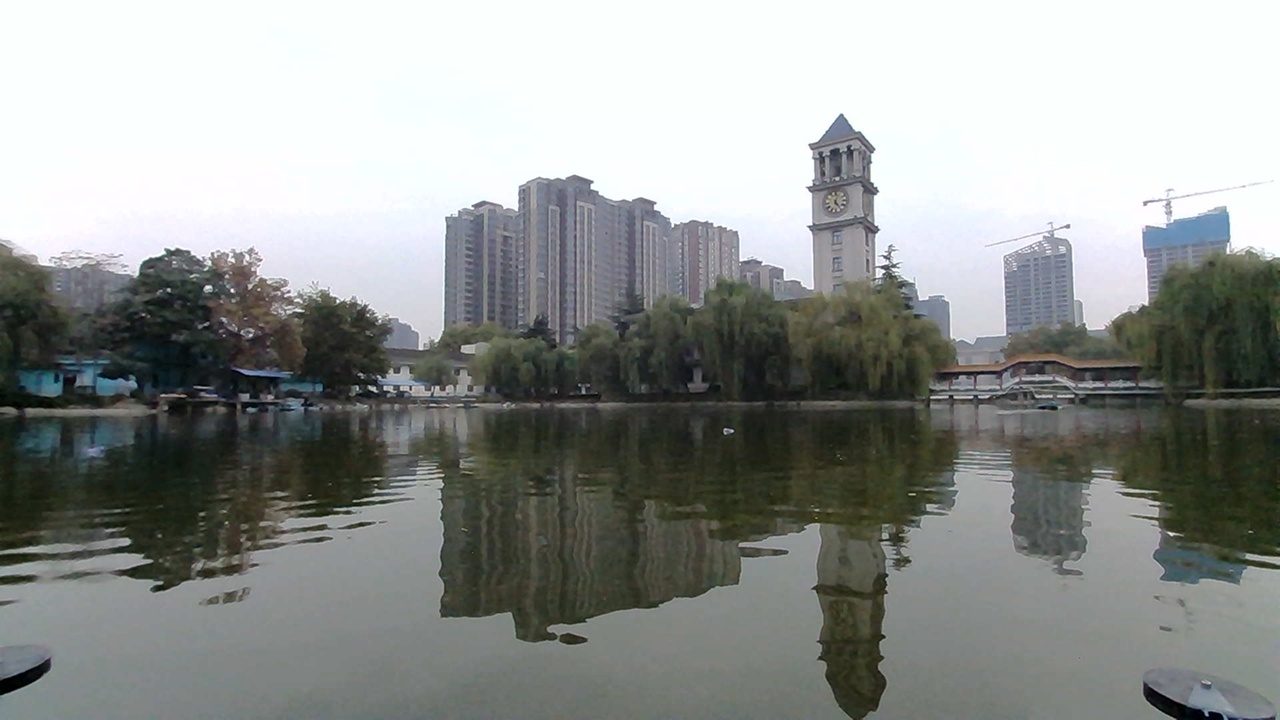bottle: (81, 428, 130, 465), (706, 412, 749, 441)
